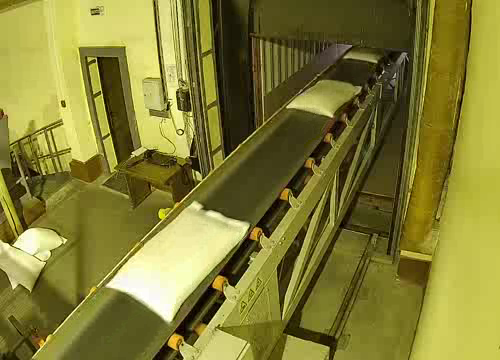bag: (103, 199, 256, 327), (283, 77, 365, 120), (344, 45, 388, 63)
